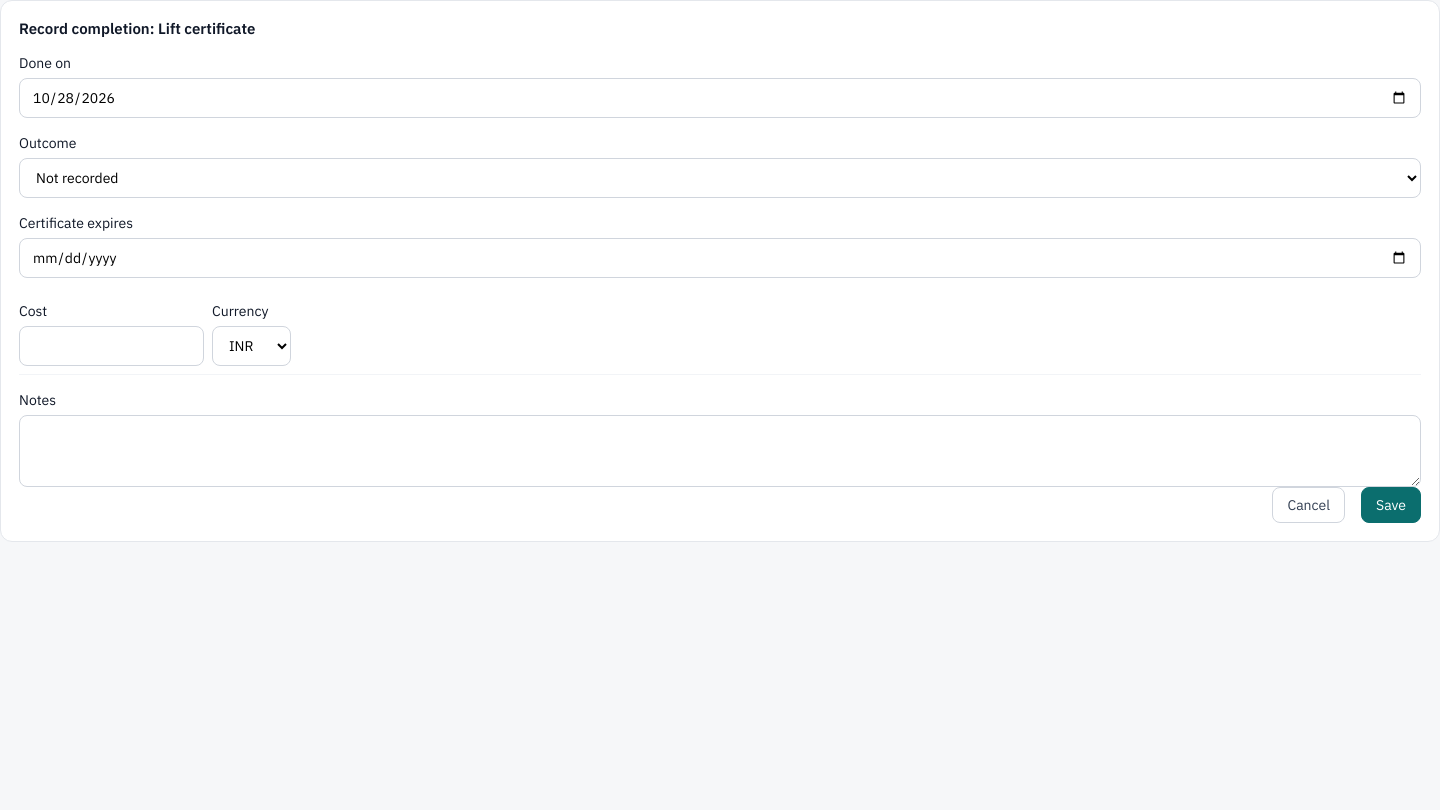
record completion: certificate with cost permission shows outcome, expiry, cost in the tenant currency
This screenshot has width=1440, height=810.
Expected: the dropdown named "outcome" is shown, x1=19 y1=158 x2=1421 y2=198
Expected: the date field named "certificate_expiry" is shown, x1=19 y1=238 x2=1421 y2=278
Type "2999-01-01" into the date field named "done_on" at (720, 98), box x1=19 y1=78 x2=1421 y2=118
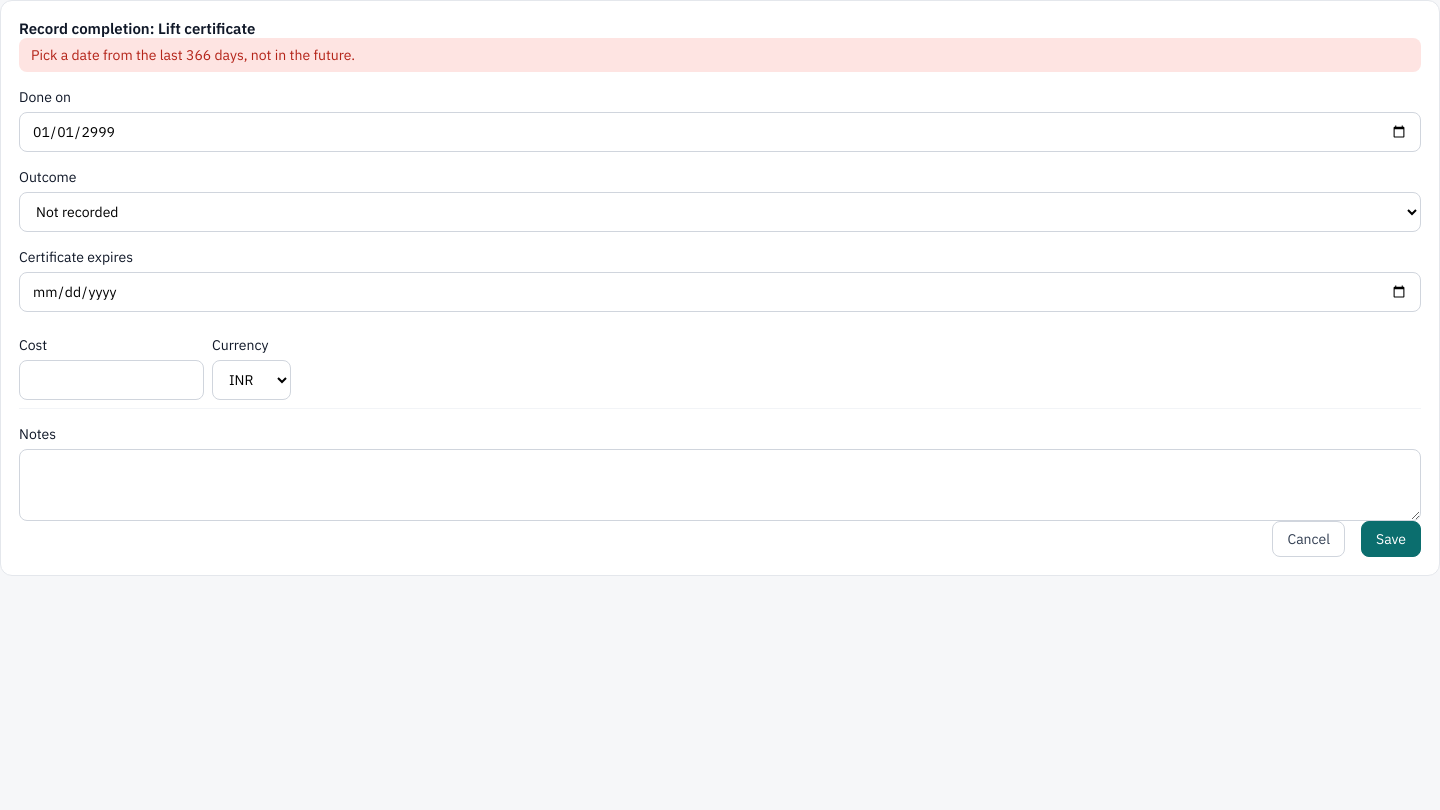
Now the text "Pick a date from the last 366 days, not in the future." is shown, box x1=19 y1=38 x2=1421 y2=72
